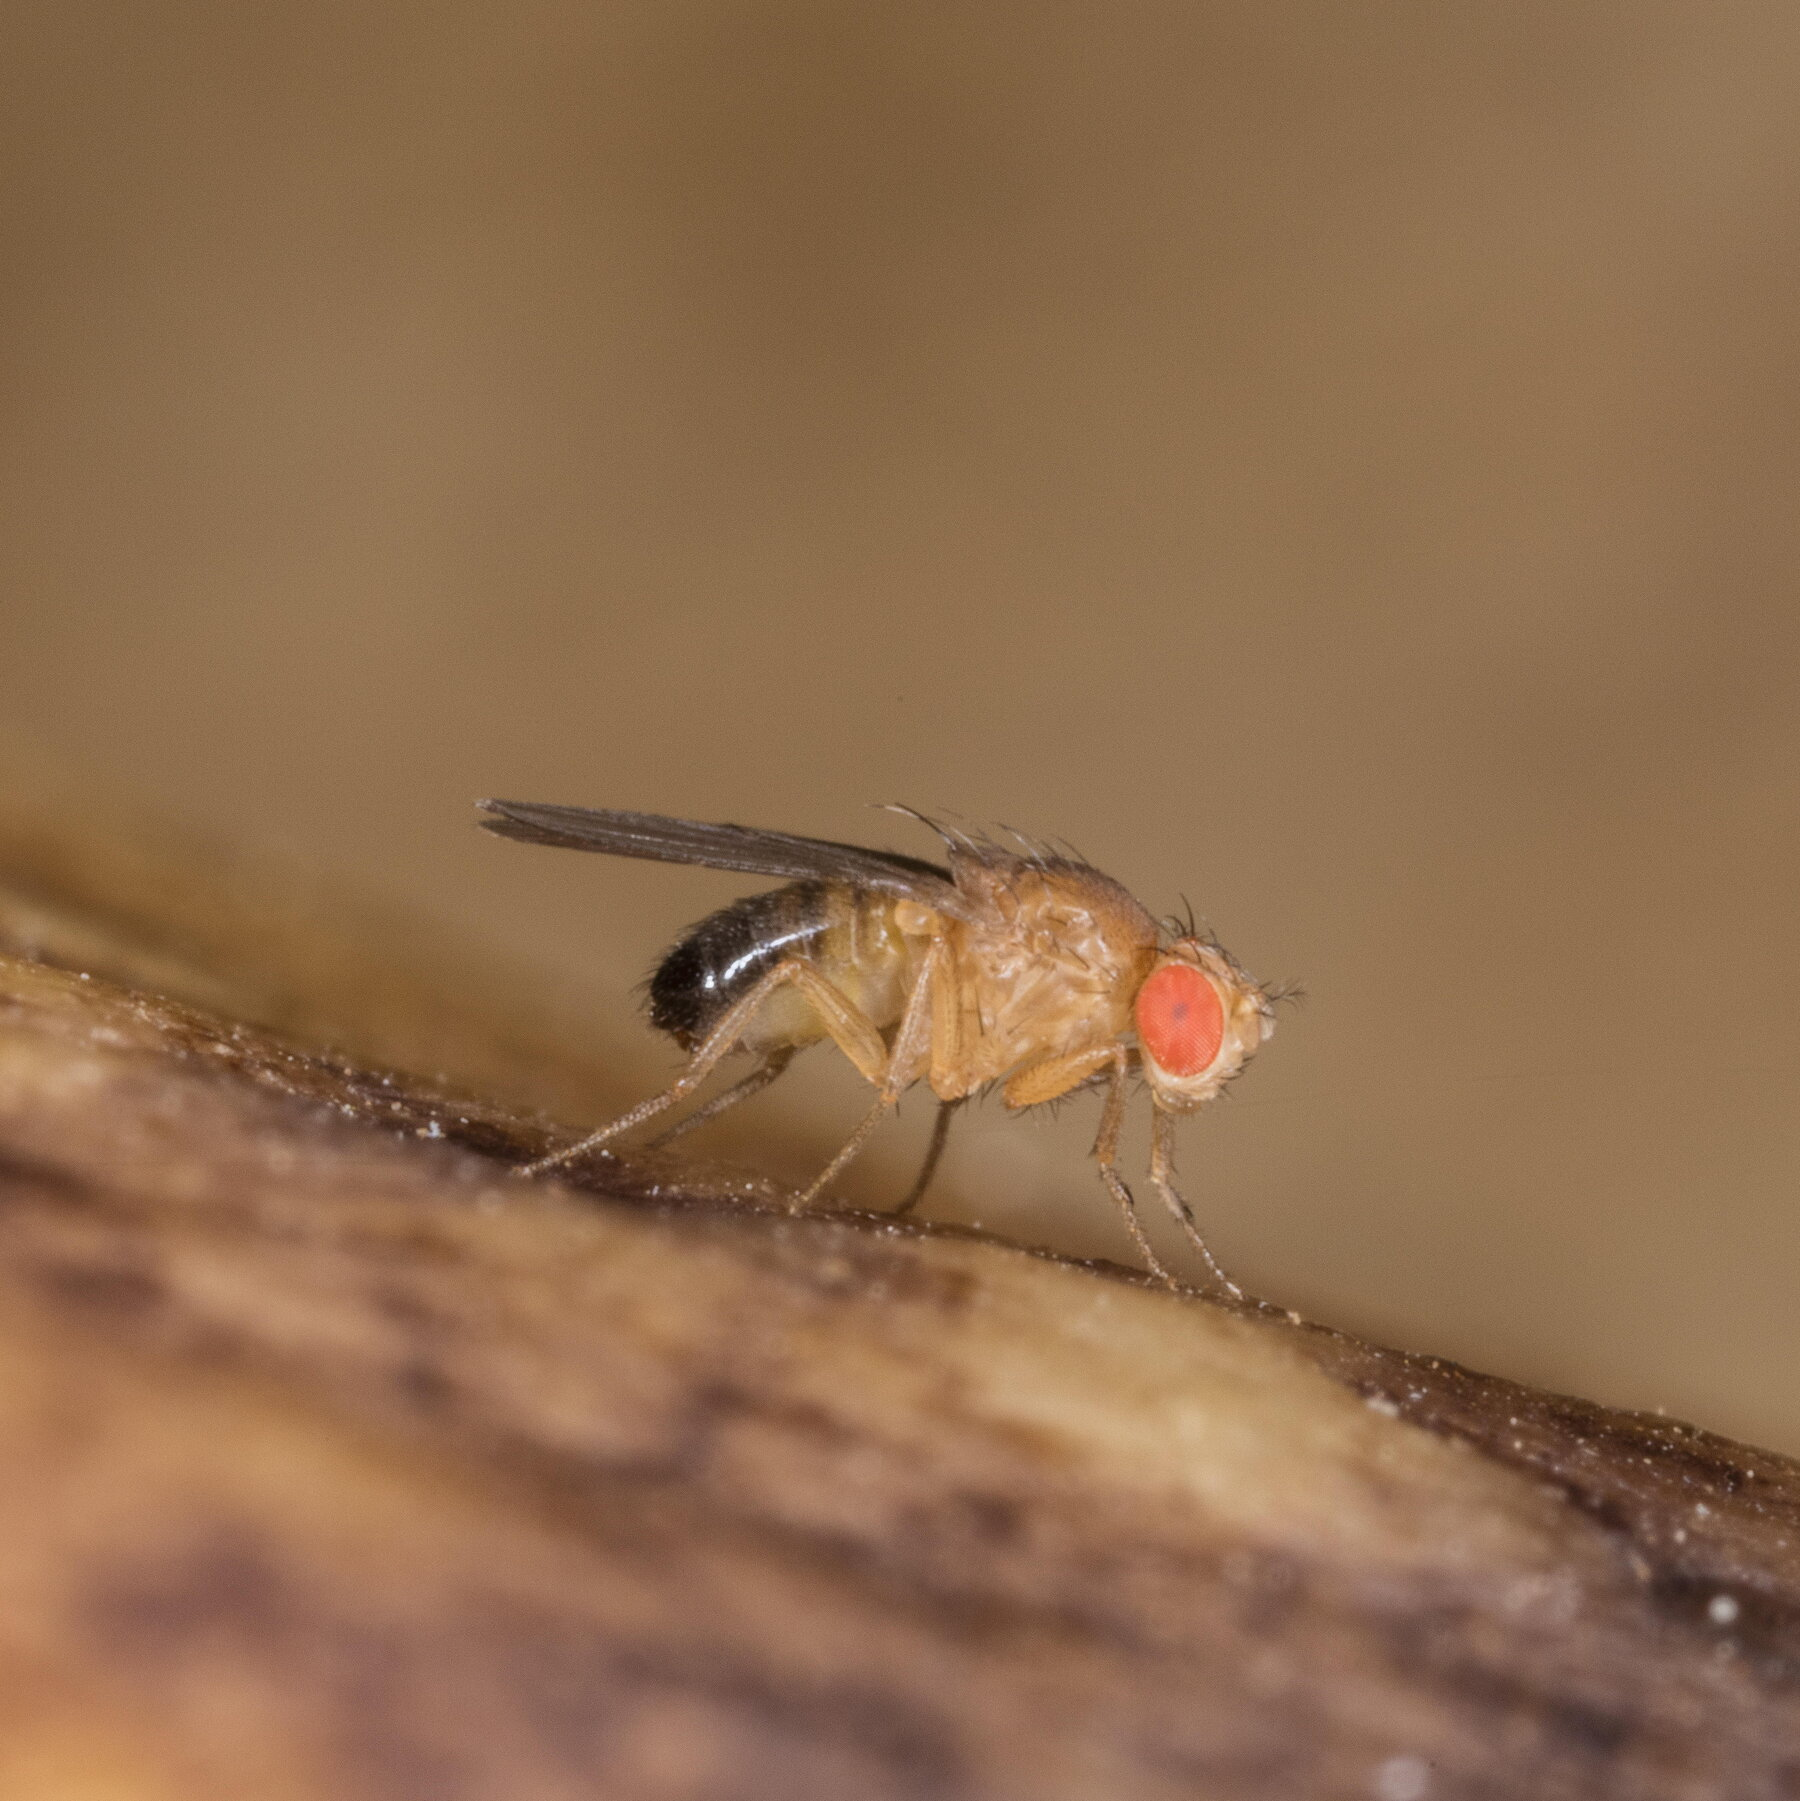Fruit fly: (477, 739, 1375, 1325)
